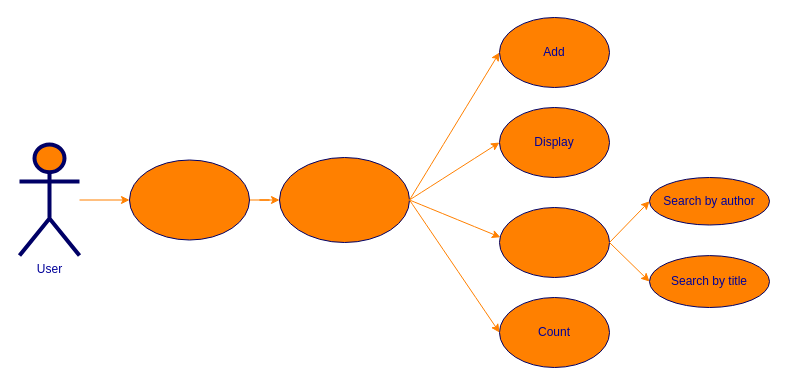
Image size: 787x385. Some labels were removed from this diagram. The shapes that lost their labels are listed below. From the top down, each one's box as (x1, y1, x2, y2) in pixels, then its label:
(128, 159, 250, 240): Login to the System
(278, 156, 410, 242): Enter how many books to be added
(498, 206, 610, 278): Search
